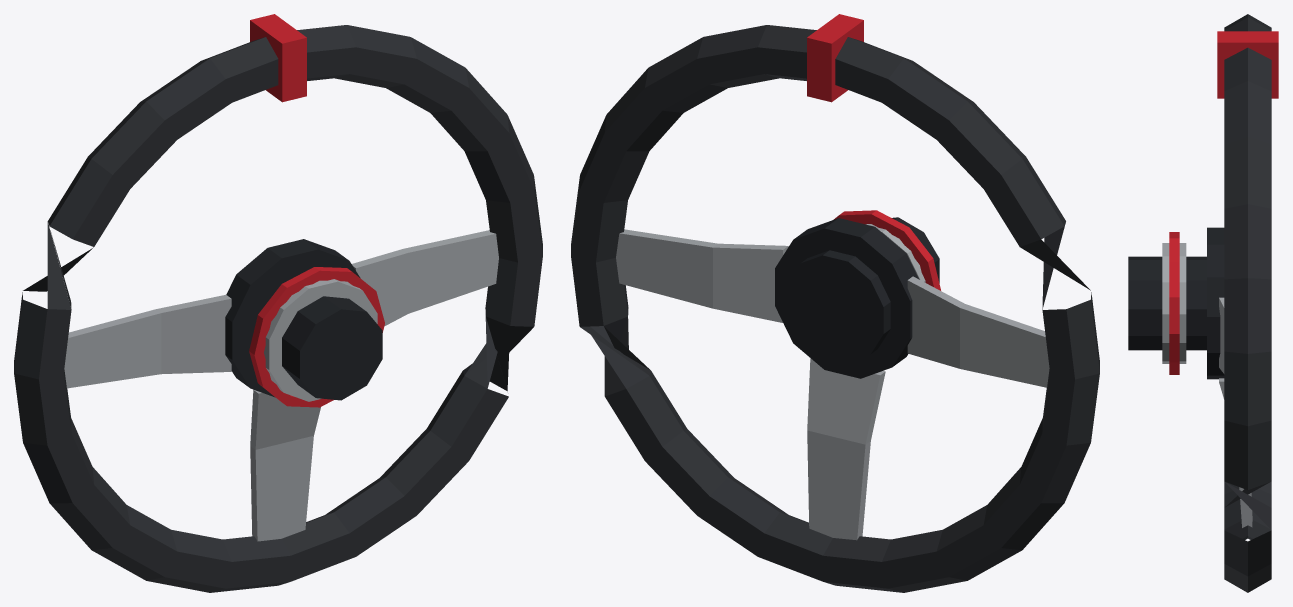
The model's file is kaze_gt.glb.
3 views of the same model, side by side, from view 1: azimuth 30°, elevation 25°; view 2: azimuth 150°, elevation 25°; view 3: azimuth 270°, elevation 25° (orthographic). The views are drawn at different scales.
Visible parts, largest first — view 1: model; view 2: model; view 3: model.
Boxes of the visible parts, x1=… form: model: x1=14, y1=14, x2=542, y2=592; model: x1=571, y1=14, x2=1099, y2=592; model: x1=1128, y1=14, x2=1278, y2=592.
Bounding box in the file's own units: 0.34 × 0.342 × 0.088.
Materials: 3 (1 with a texture image).
